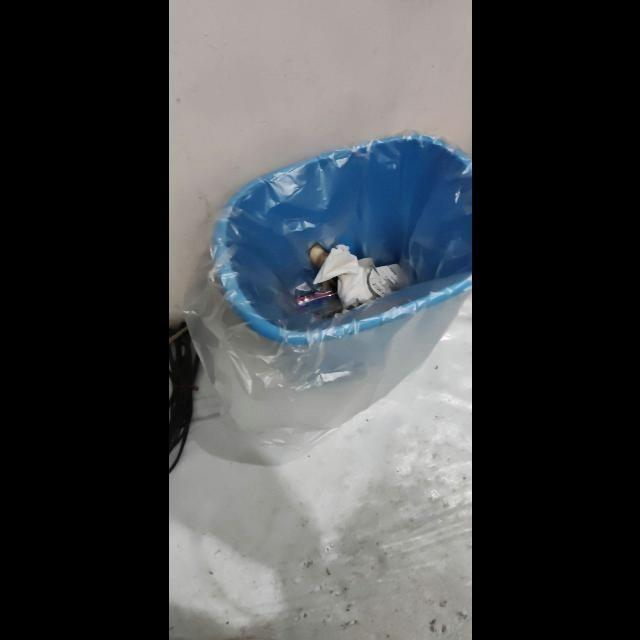paper: (313, 245, 376, 308)
